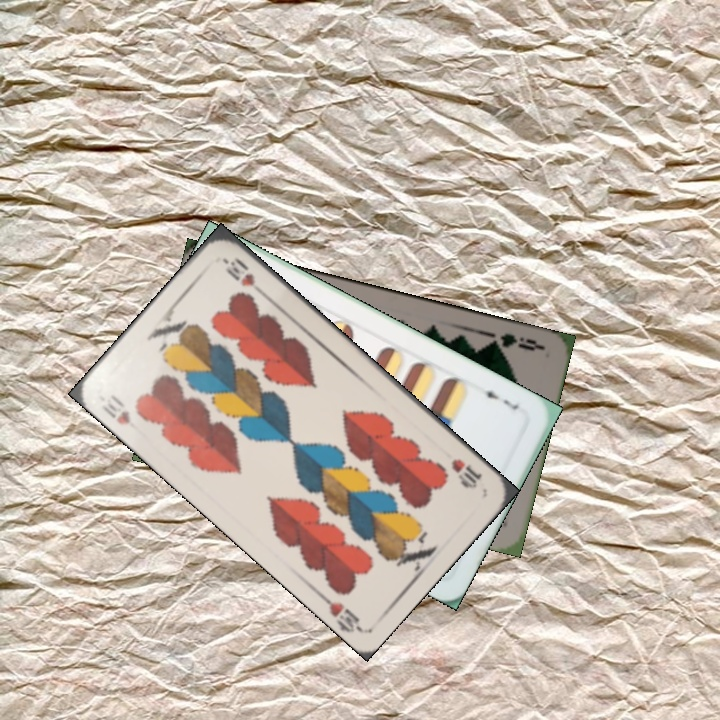E7: (477, 382, 522, 413)
G9: (485, 329, 546, 354)
H10: (447, 454, 485, 491), (98, 390, 133, 428)
